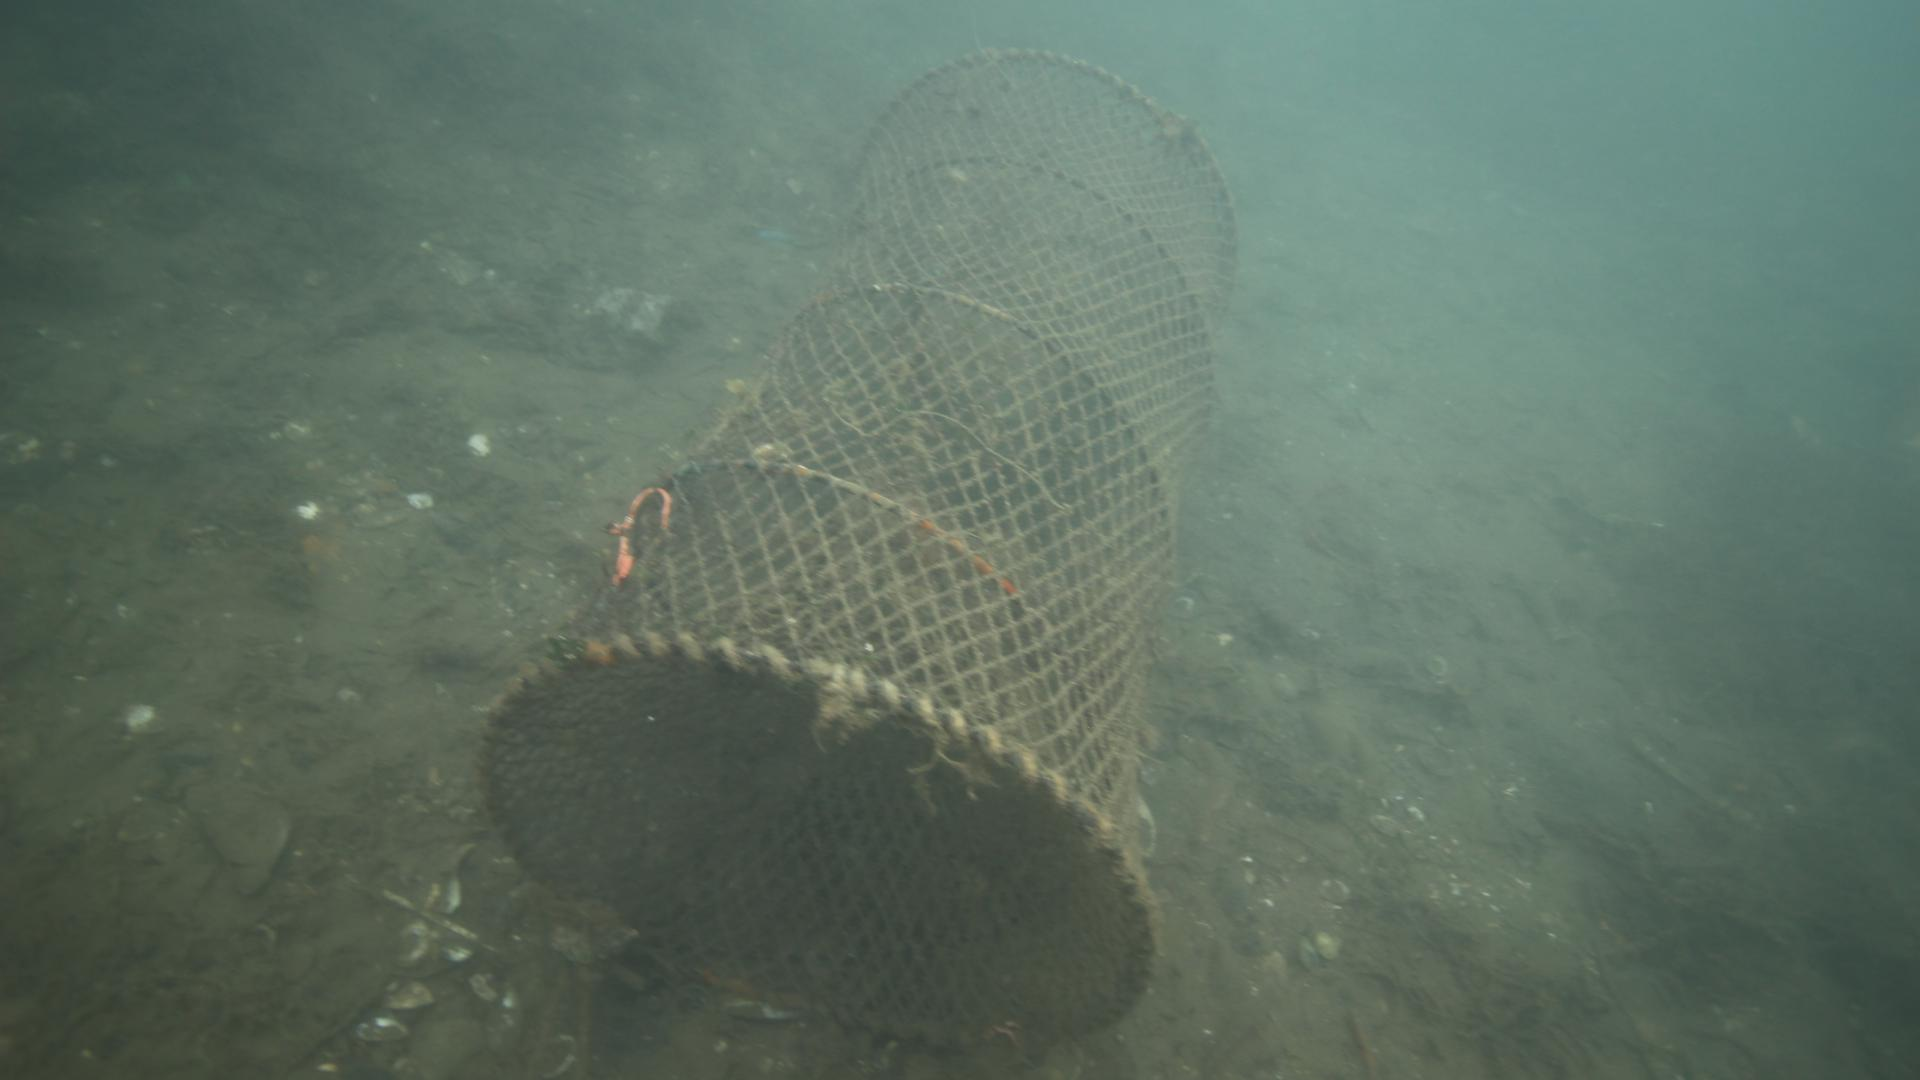spring fish trap: (468, 42, 1242, 1060)
